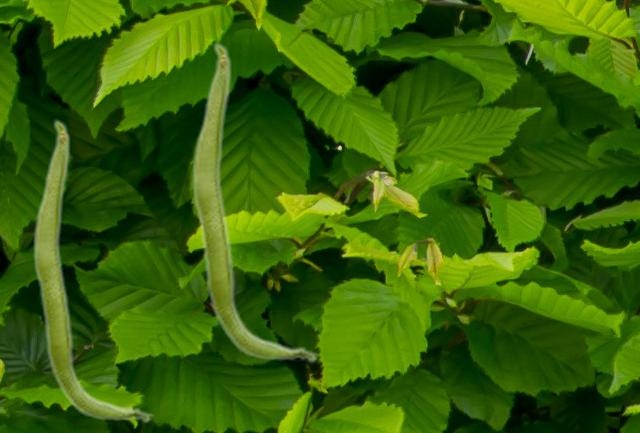french_bean: (190, 41, 318, 363), (31, 118, 152, 423)
